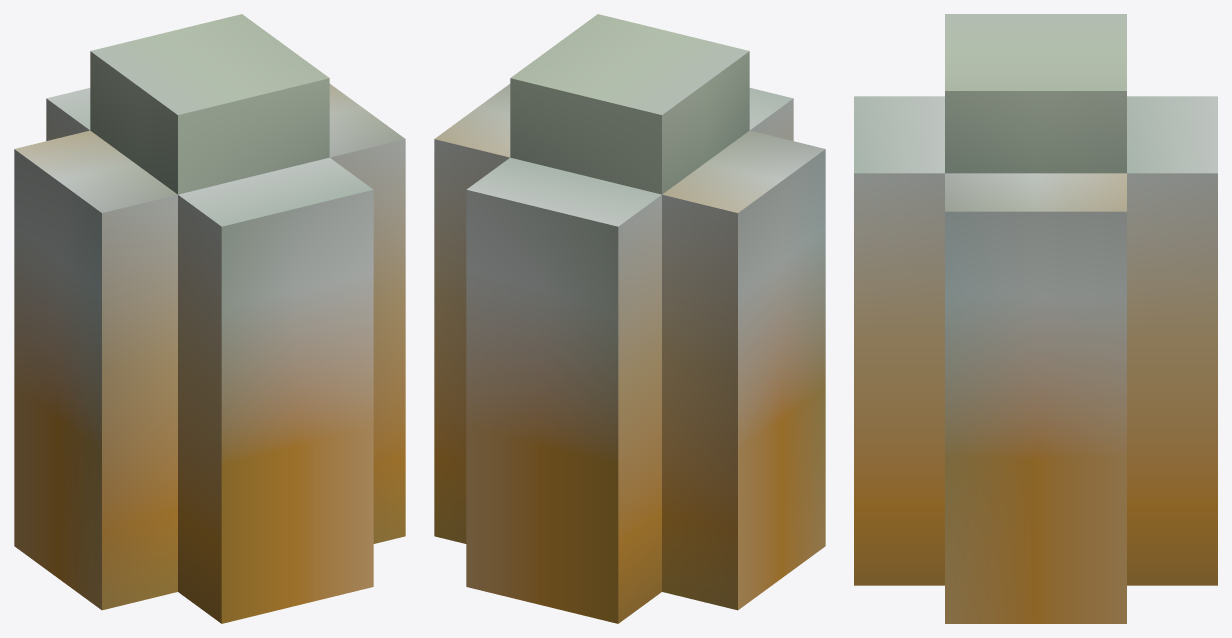
Rendered from JarYellow_00.fbx.
3 renders of one model, left to right at view 1: azimuth 30°, elevation 25°; view 2: azimuth 150°, elevation 25°; view 3: azimuth 270°, elevation 25°, orthographic. The views are drawn at different scales.
Parts seen in each view (by area): view 1: JarYellow_00; view 2: JarYellow_00; view 3: JarYellow_00.
Boxes of the visible parts, x1,y1,x2,y2 form: JarYellow_00: (14,14,405,623); JarYellow_00: (434,14,825,623); JarYellow_00: (854,14,1217,623).
Size of the model in its own units: 20 by 20 by 30.
Materials: 1 (1 with a texture image).
